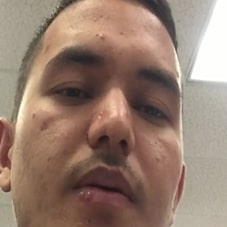drowsy: (41, 39, 183, 227)
